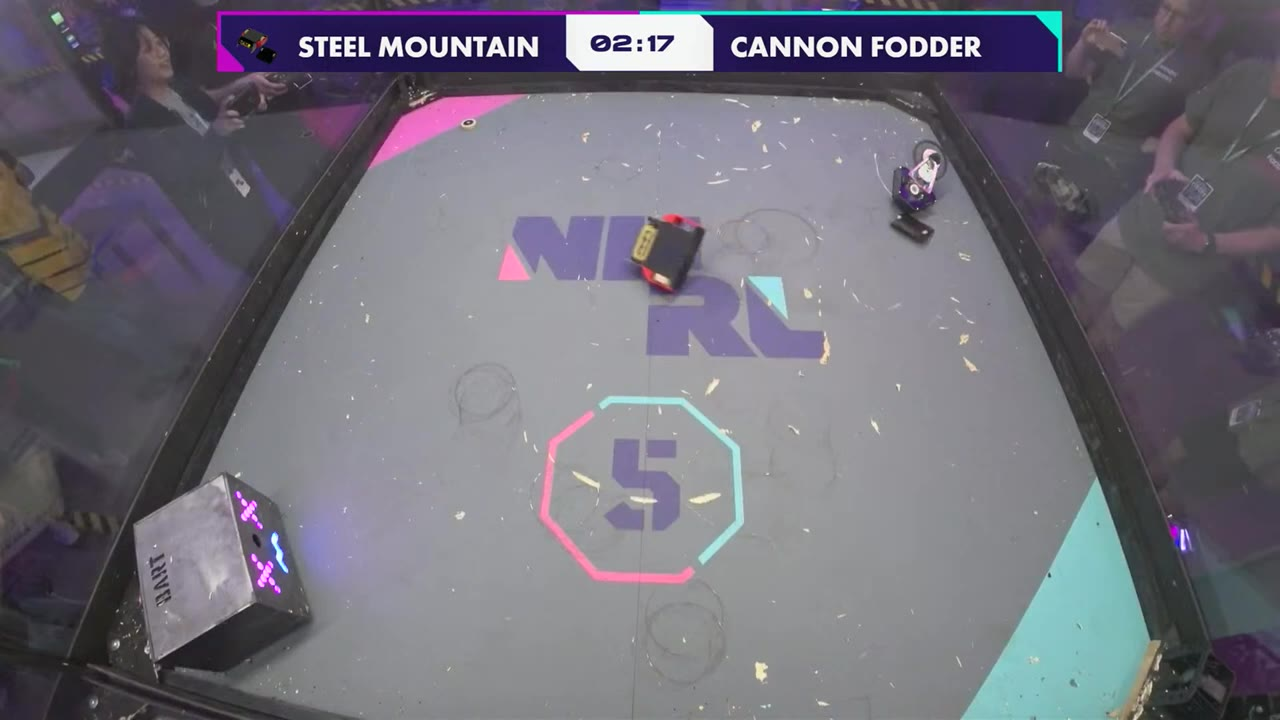combatbot: (628, 210, 708, 299), (891, 138, 949, 211)
housebot: (130, 473, 318, 674)
minibot: (886, 213, 936, 247)
